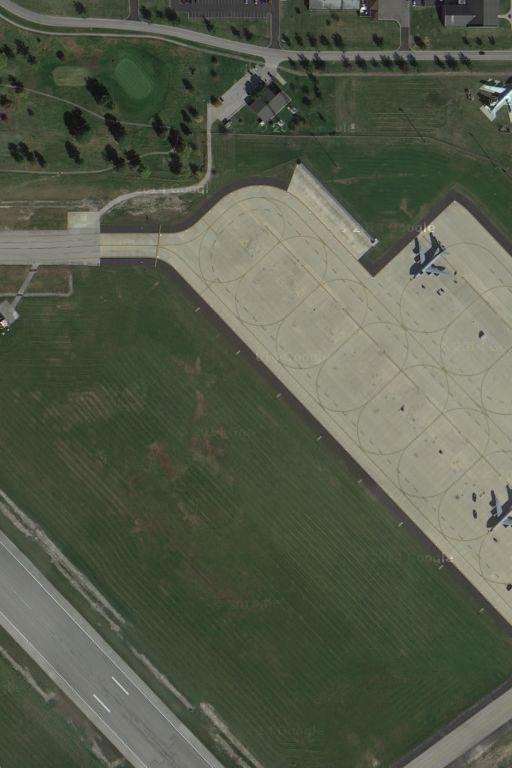KC-135: (408, 232, 452, 283)
